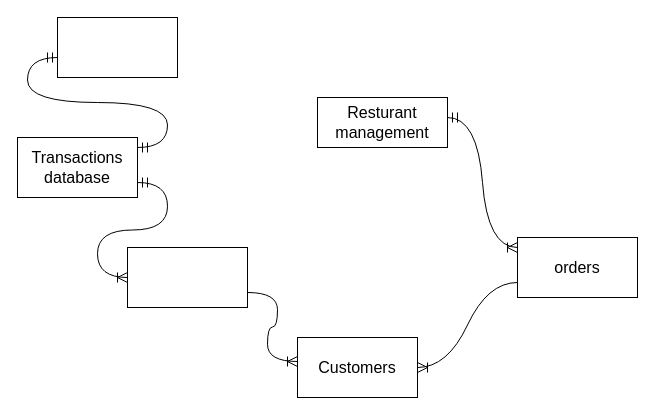
This 655x415 diagram has some shape labels left out. Here are the shapes that lost their labels. From the top down, the centre of each, then its label:
point (117, 47): customers database
point (187, 277): payment
